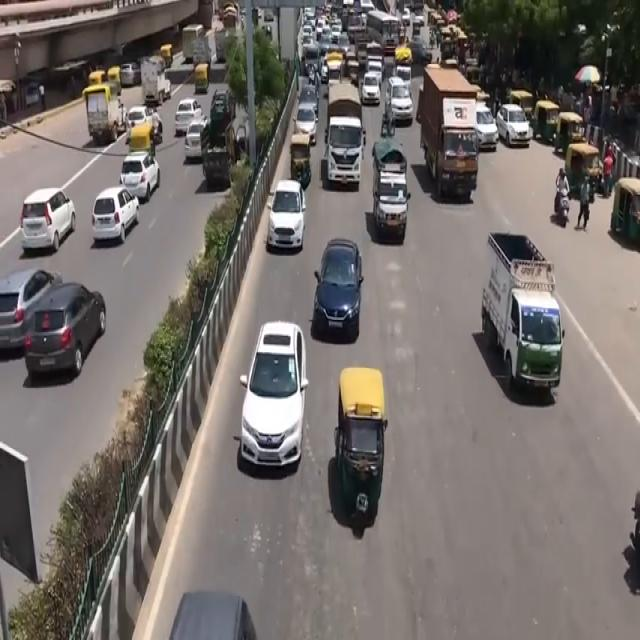SED: (241, 323, 304, 469)
TRUCK: (486, 231, 563, 396), (419, 68, 479, 201), (371, 142, 407, 246), (328, 116, 364, 188), (141, 58, 172, 106)
